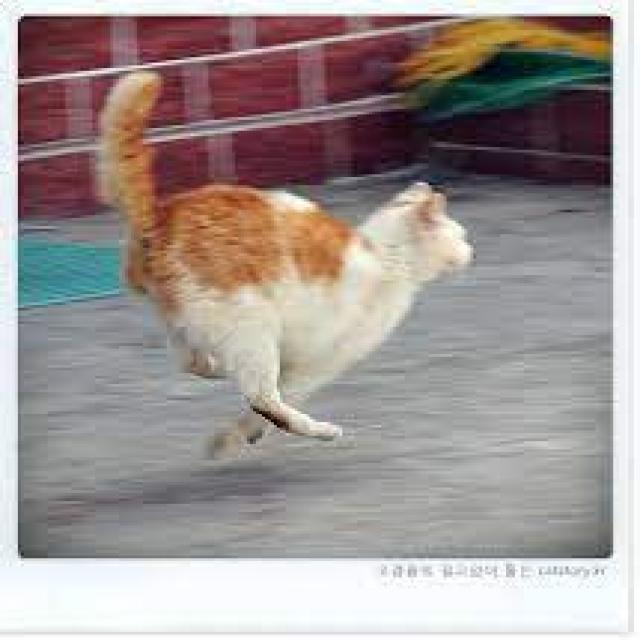cat: (39, 51, 551, 464)
